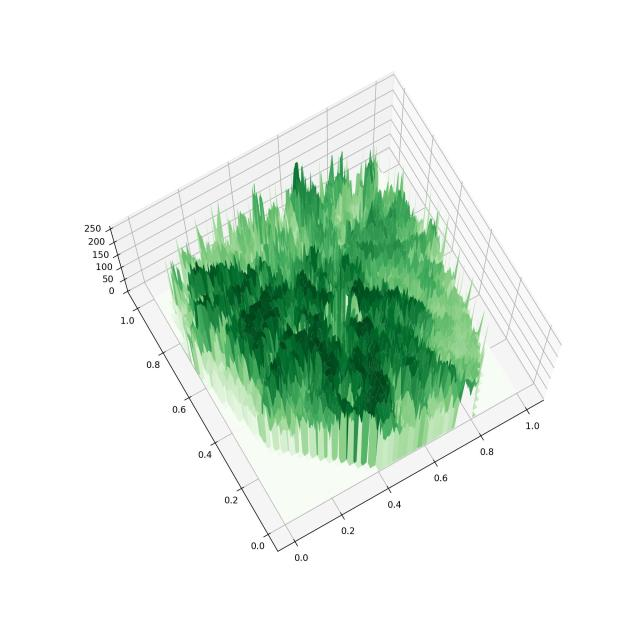trembling aspen: (51, 30, 611, 612)
